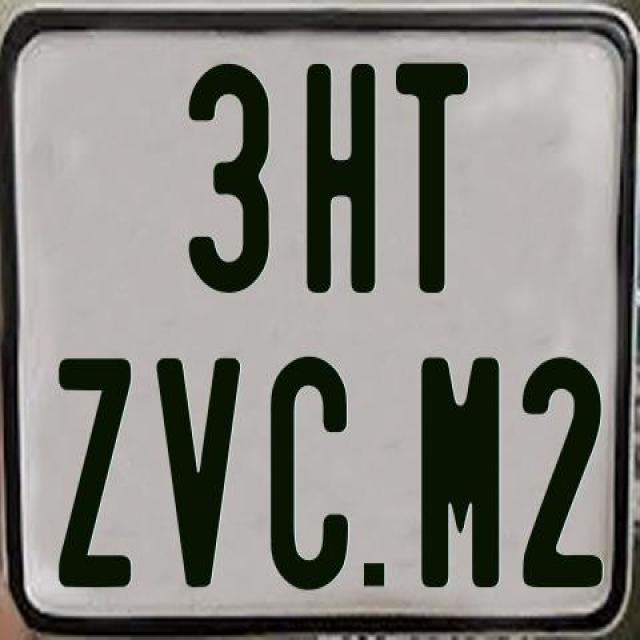2: (518, 352, 606, 590)
3: (187, 64, 270, 301)
C: (270, 352, 356, 586)
H: (302, 64, 374, 298)
M: (418, 356, 496, 590)
T: (396, 59, 474, 296)
V: (154, 356, 242, 594)
Z: (57, 356, 135, 588)
